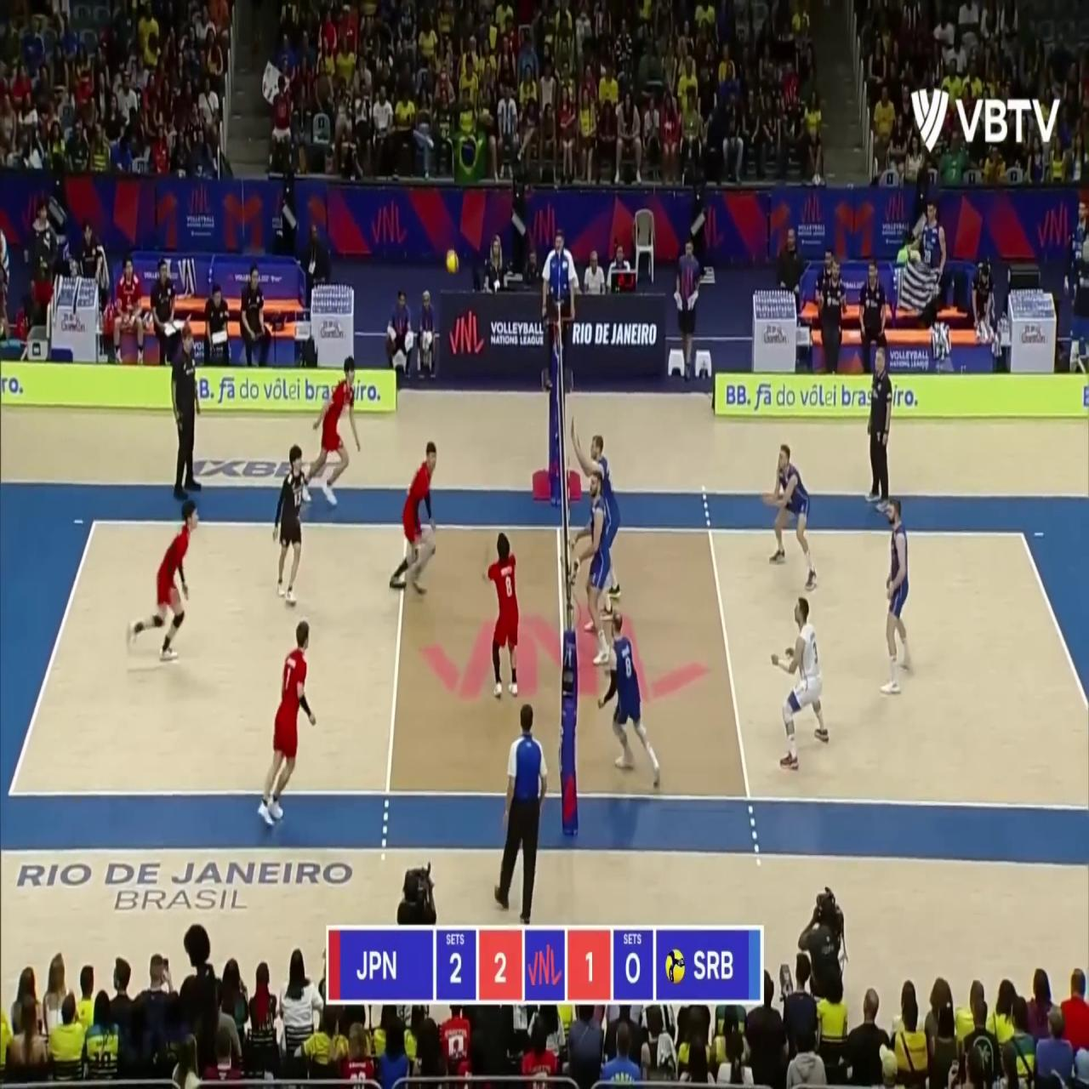ball: (445, 249, 459, 273)
